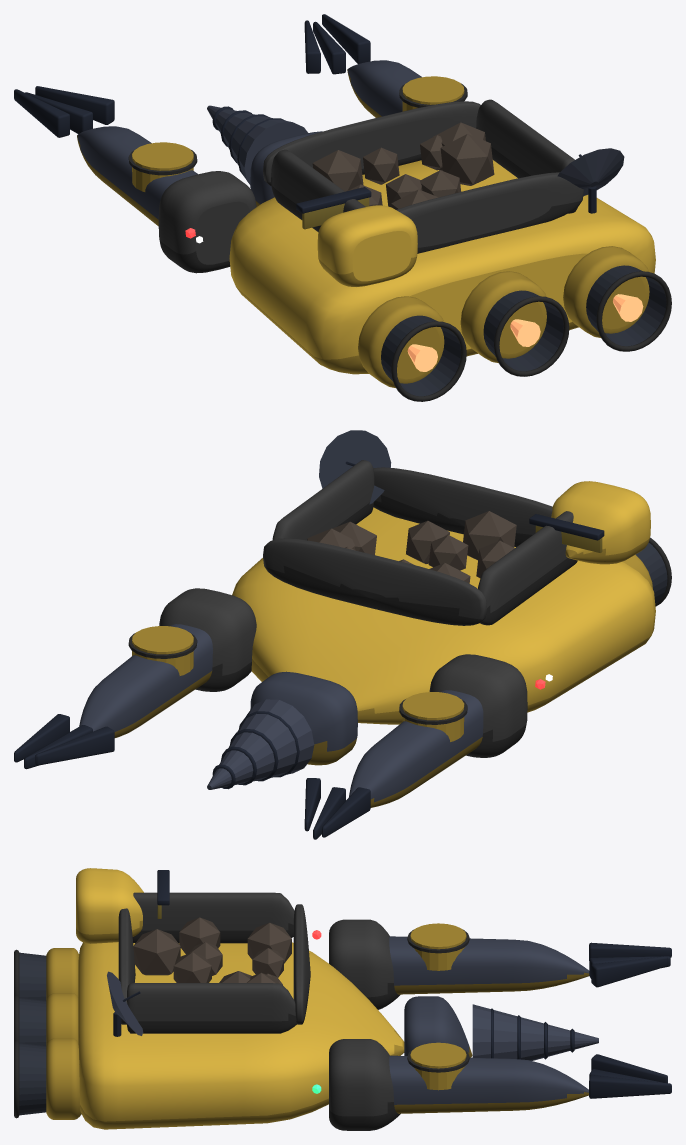
Rendered from prospector.glb.
3 views of the same model, one above another, from view 1: azimuth 30°, elevation 25°; view 2: azimuth 150°, elevation 25°; view 3: azimuth 270°, elevation 25° (orthographic). The views are drawn at different scales.
Visible parts, largest first — view 1: prospector_mesh, radar_mesh; view 2: prospector_mesh, radar_mesh; view 3: prospector_mesh, radar_mesh.
Boxes of the visible parts, bbox=[...] form: prospector_mesh: bbox=[14, 14, 671, 401]; radar_mesh: bbox=[557, 148, 624, 213]; prospector_mesh: bbox=[14, 460, 671, 839]; radar_mesh: bbox=[319, 430, 391, 504]; prospector_mesh: bbox=[14, 868, 671, 1130]; radar_mesh: bbox=[107, 971, 143, 1036].
Size of the model in its own units: 7.7 by 3.44 by 13.52.
